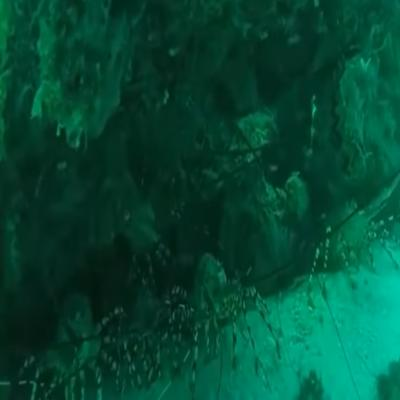lobster: (172, 251, 240, 368), (310, 186, 384, 279), (41, 292, 101, 392)
